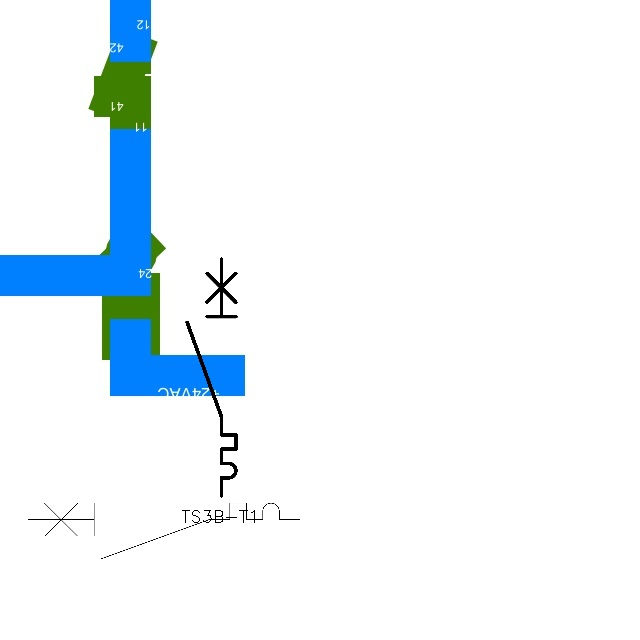interruptor_termomagnetico: (21, 496, 307, 566), (181, 253, 242, 502)
